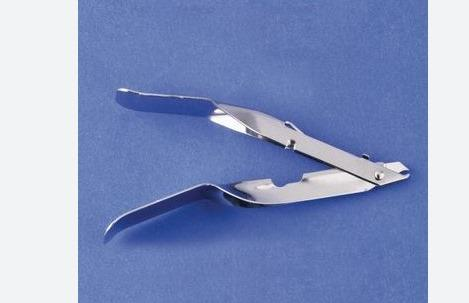Stapler Remover: (96, 81, 413, 257)
